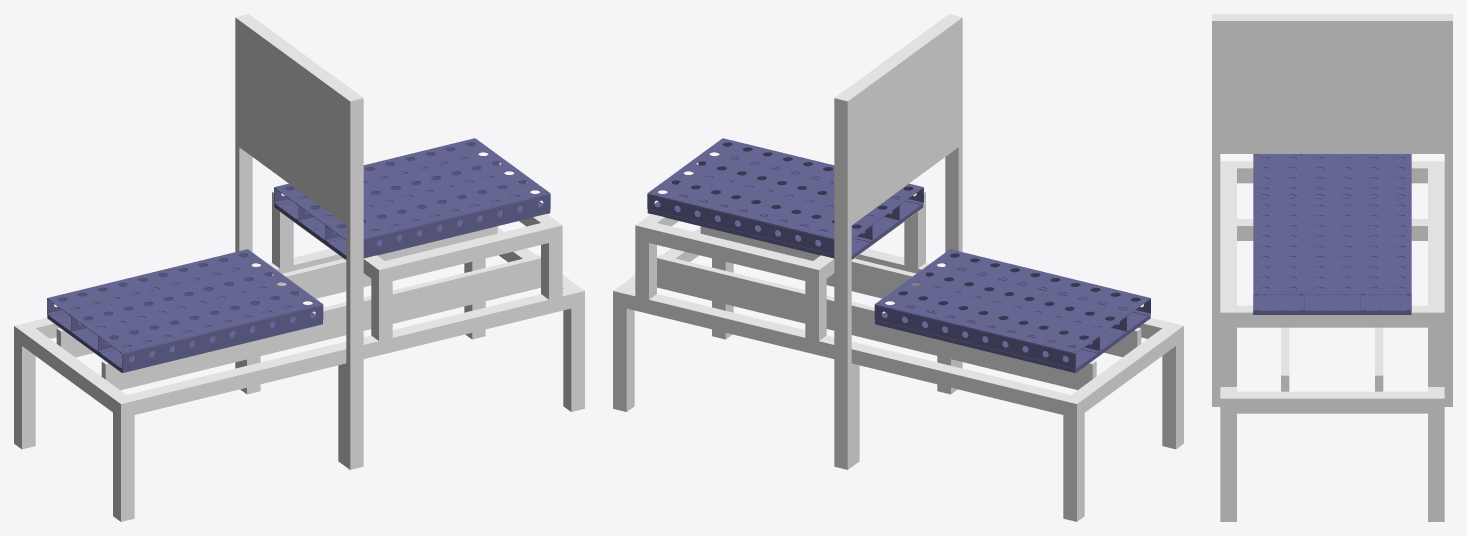
File: Pallet_Table.glb
The picture shows the model from 3 angles, left to right: view 1: azimuth 30°, elevation 25°; view 2: azimuth 150°, elevation 25°; view 3: azimuth 270°, elevation 25°; orthographic projection. The views are drawn at different scales.
Visible parts, largest first — view 1: 245,245,246, 102,102,153; view 2: 245,245,246, 102,102,153; view 3: 245,245,246, 102,102,153.
Part boxes in pixels (left/top/right/bottom): 245,245,246: left=14, top=14, right=584, bottom=521; 102,102,153: left=47, top=138, right=550, bottom=372; 245,245,246: left=613, top=14, right=1183, bottom=521; 102,102,153: left=647, top=138, right=1150, bottom=372; 245,245,246: left=1212, top=14, right=1452, bottom=521; 102,102,153: left=1253, top=154, right=1411, bottom=314.
Bounding box in the file's own units: 3 × 2.28 × 1.29.
